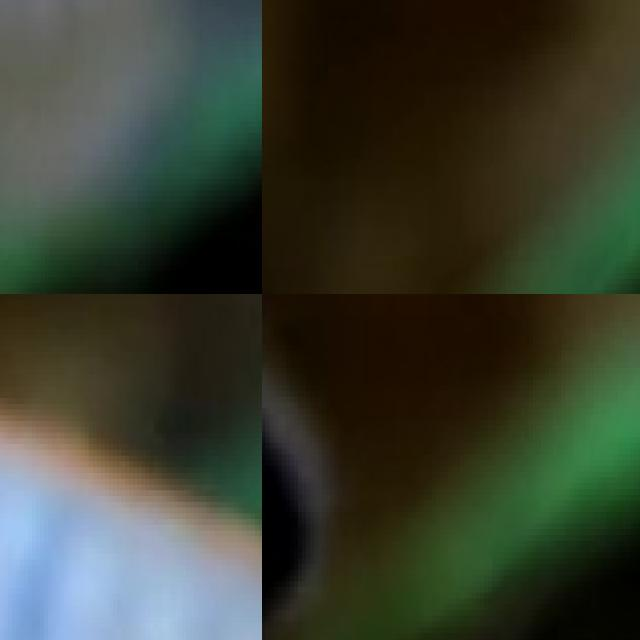fish: (0, 294, 262, 640), (0, 0, 262, 294), (273, 294, 640, 437)
